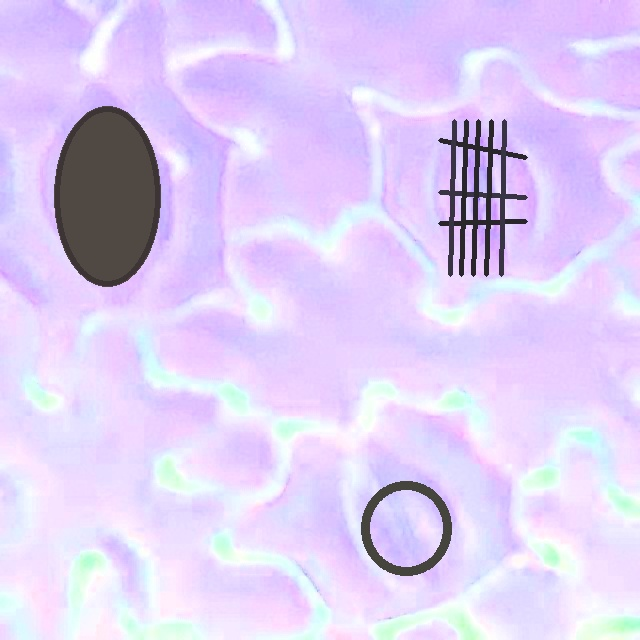open: (54, 106, 160, 285), (438, 119, 527, 276), (360, 482, 453, 575)
